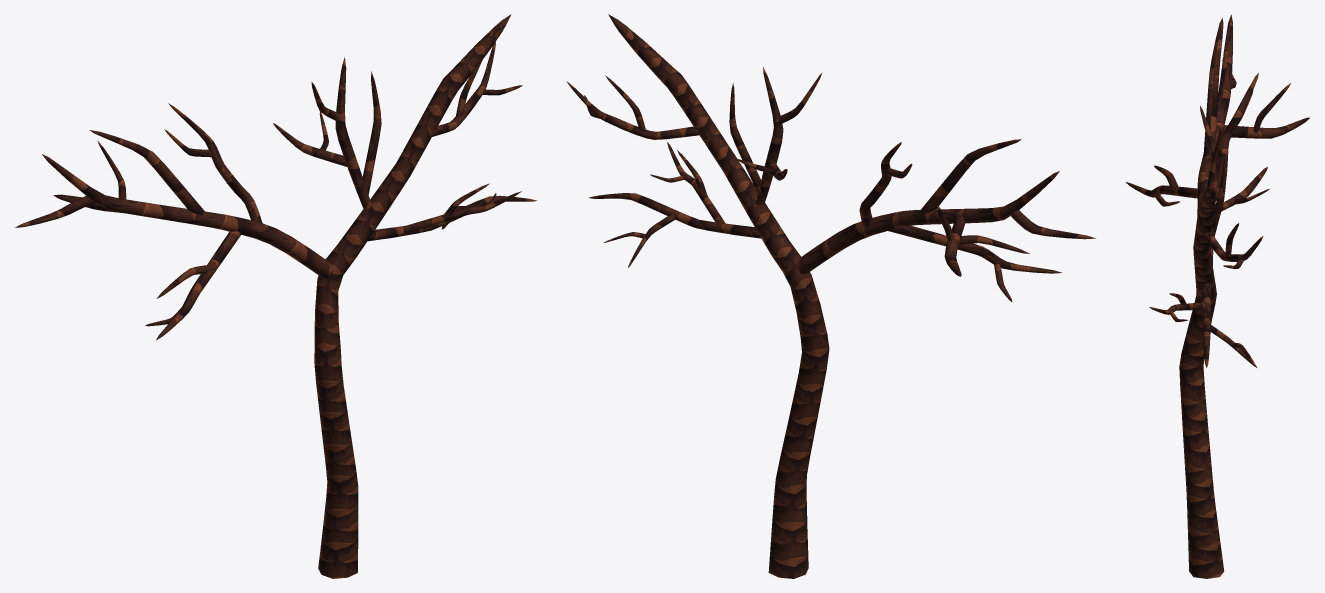
Rendered from garden_deadwood.glb.
The picture shows the model from 3 angles, left to right: view 1: azimuth 30°, elevation 25°; view 2: azimuth 150°, elevation 25°; view 3: azimuth 270°, elevation 25°; orthographic projection. The views are drawn at different scales.
Visible parts, largest first — view 1: DeadTree_4; view 2: DeadTree_4; view 3: DeadTree_4.
Boxes of the visible parts, left/top/right/bottom form: DeadTree_4: left=15, top=14, right=536, bottom=578; DeadTree_4: left=566, top=14, right=1095, bottom=578; DeadTree_4: left=1125, top=14, right=1309, bottom=578.
Bounding box in the file's own units: 2.1 × 2 × 0.7229.
Materials: 1 (1 with a texture image).
